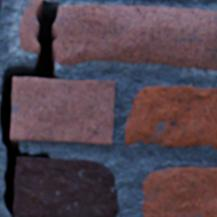brick: (11, 78, 115, 145), (13, 158, 117, 216), (125, 86, 216, 149), (141, 167, 216, 216)
broken_brick: (53, 5, 216, 70), (19, 0, 43, 54)
crack: (0, 1, 58, 216)
